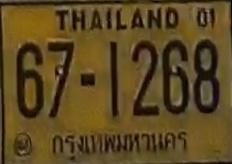1: (109, 40, 119, 116)
2: (131, 40, 160, 115)
6: (14, 41, 42, 117), (162, 40, 188, 114)
7: (47, 41, 74, 117)
8: (192, 38, 218, 113)
BKK: (46, 126, 191, 157)
